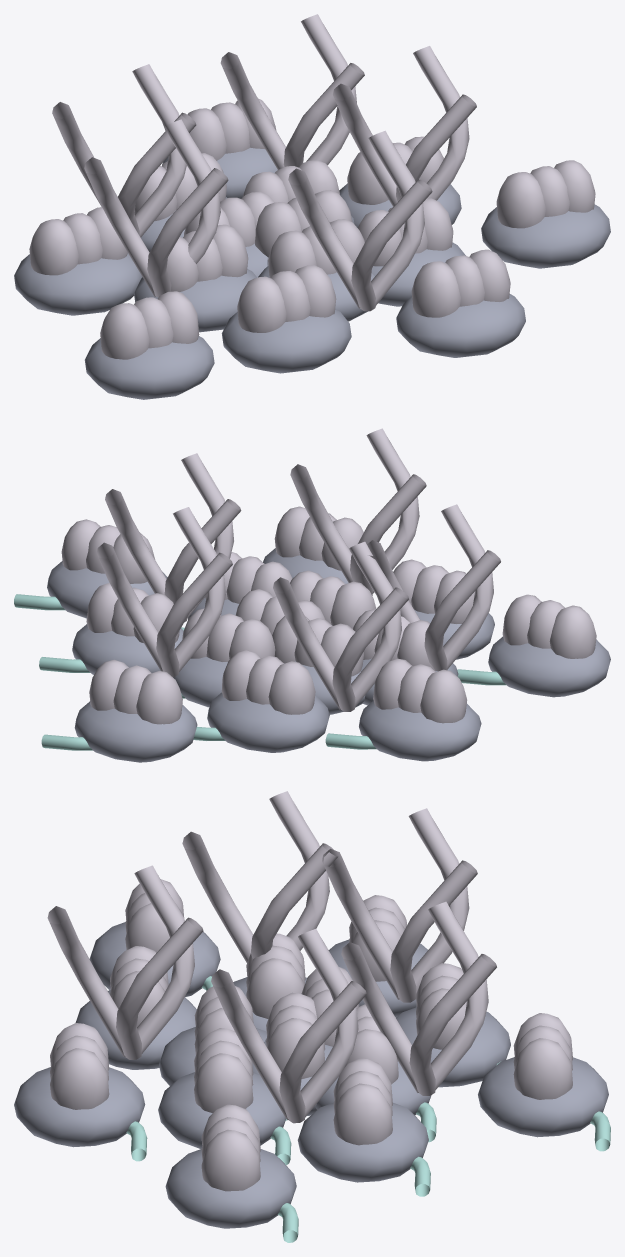
The model's file is bio_acid_mat_24_far.glb.
The picture shows the model from 3 angles, top to bottom: view 1: azimuth 30°, elevation 25°; view 2: azimuth 150°, elevation 25°; view 3: azimuth 270°, elevation 25°; orthographic projection. The views are drawn at different scales.
Visible parts, largest first — view 1: Spiral filament.006, Spiral filament.012, Spiral filament.009, Spiral filament, Spiral filament.003, Microbial cushion.007, Microbial cushion.010, Microbial cushion.012, Microbial cushion.013, Microbial cushion.009, Reaction vesicle.036, Reaction vesicle.030 (+17 smaller); view 2: Spiral filament.009, Spiral filament.003, Spiral filament.006, Spiral filament.012, Spiral filament, Microbial cushion.011, Microbial cushion.006, Microbial cushion.012, Microbial cushion.009, Reaction vesicle.036, Reaction vesicle.018, Reaction vesicle.027 (+22 smaller); view 3: Spiral filament.006, Spiral filament, Spiral filament.009, Spiral filament.003, Spiral filament.012, Microbial cushion.010, Microbial cushion.011, Microbial cushion.013, Microbial cushion.008, Reaction vesicle.039, Reaction vesicle.033, Reaction vesicle.030 (+22 smaller).
Boxes of the visible parts, bbox=[...] form: Spiral filament.006: bbox=[288, 130, 432, 311]; Spiral filament.012: bbox=[84, 119, 228, 297]; Spiral filament.009: bbox=[220, 14, 364, 169]; Spiral filament: bbox=[333, 46, 476, 206]; Spiral filament.003: bbox=[52, 64, 196, 237]; Microbial cushion.007: bbox=[221, 309, 351, 373]; Microbial cushion.010: bbox=[396, 294, 525, 357]; Microbial cushion.012: bbox=[84, 336, 214, 399]; Microbial cushion.013: bbox=[481, 204, 610, 268]; Microbial cushion.009: bbox=[14, 253, 142, 315]; Reaction vesicle.036: bbox=[100, 291, 199, 359]; Reaction vesicle.030: bbox=[411, 249, 510, 317]; Spiral filament.009: bbox=[96, 507, 232, 677]; Spiral filament.003: bbox=[273, 541, 408, 711]; Spiral filament.006: bbox=[290, 428, 426, 595]; Spiral filament.012: bbox=[367, 504, 500, 671]; Spiral filament: bbox=[105, 453, 241, 622]; Microbial cushion.011: bbox=[74, 701, 197, 762]; Microbial cushion.006: bbox=[207, 692, 329, 752]; Microbial cushion.012: bbox=[488, 636, 610, 697]; Microbial cushion.009: bbox=[359, 701, 481, 761]; Reaction vesicle.036: bbox=[502, 594, 596, 658]; Reaction vesicle.018: bbox=[221, 650, 315, 714]; Reaction vesicle.027: bbox=[373, 658, 467, 723]; Spiral filament.006: bbox=[47, 865, 203, 1059]; Spiral filament: bbox=[211, 929, 366, 1123]; Spiral filament.009: bbox=[341, 901, 496, 1095]; Spiral filament.003: bbox=[322, 808, 477, 1002]; Spiral filament.012: bbox=[182, 791, 337, 962]; Microbial cushion.010: bbox=[14, 1067, 145, 1147]; Microbial cushion.011: bbox=[478, 1057, 608, 1137]; Microbial cushion.013: bbox=[165, 1149, 296, 1228]; Microbial cushion.008: bbox=[297, 1102, 428, 1182]; Reaction vesicle.039: bbox=[201, 1104, 260, 1191]; Reaction vesicle.033: bbox=[513, 1013, 572, 1099]; Reaction vesicle.030: bbox=[50, 1023, 109, 1109].
Size of the model in its own units: 2.33 by 0.7408 by 2.
